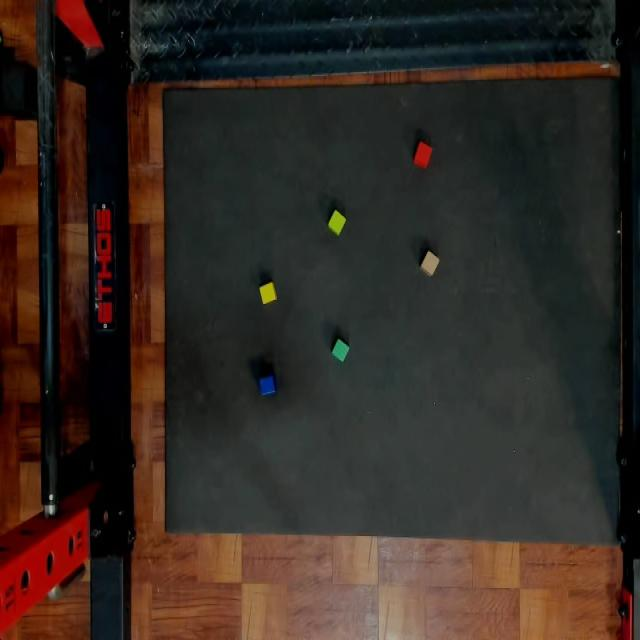block: (413, 141, 432, 167), (328, 209, 346, 235), (420, 252, 439, 275), (332, 337, 349, 361), (260, 281, 276, 303), (260, 375, 275, 393)
